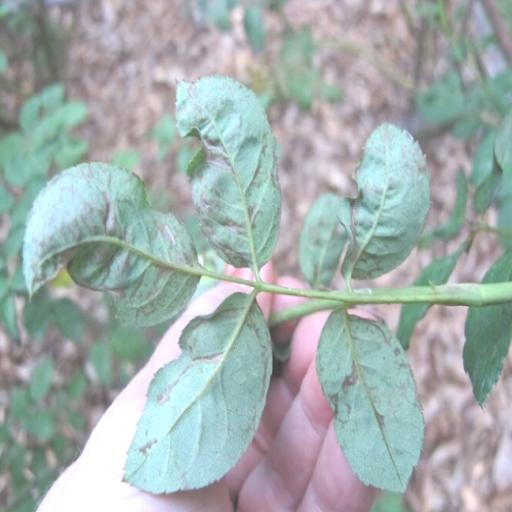thrip: (126, 294, 271, 493), (24, 164, 199, 325), (177, 77, 280, 271), (317, 309, 424, 490), (338, 123, 429, 280)
